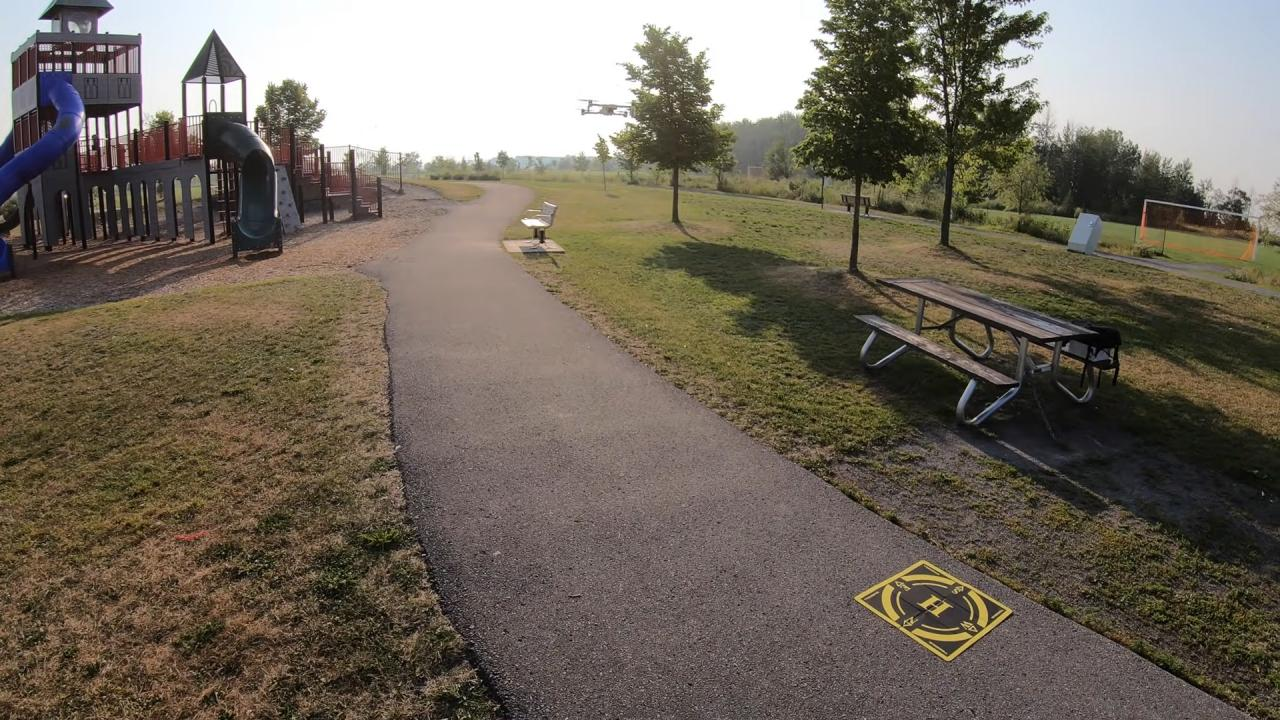Drone: (568, 91, 648, 125)
